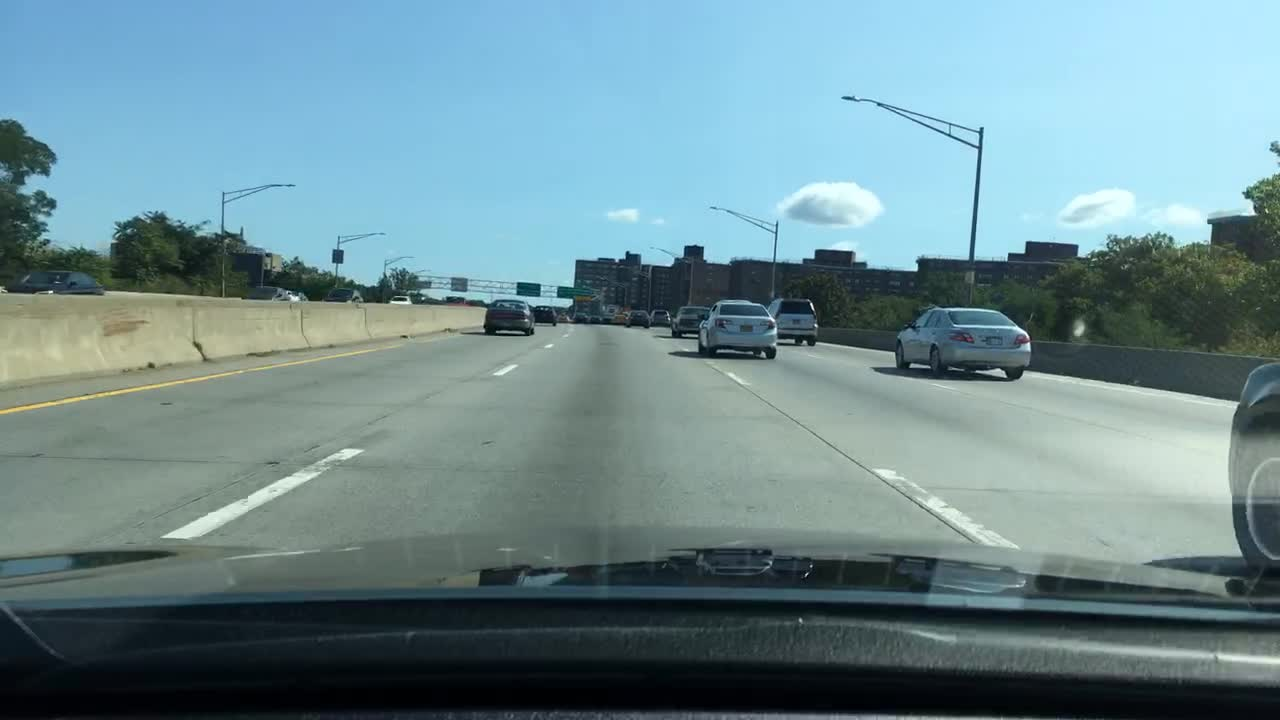car: (1227, 357, 1278, 581), (895, 308, 1031, 383), (697, 298, 776, 359), (2, 266, 101, 298), (764, 298, 817, 347), (484, 299, 538, 336), (670, 305, 712, 341), (323, 284, 363, 308), (240, 284, 287, 304), (531, 305, 555, 329), (624, 308, 649, 330), (649, 310, 673, 329), (285, 287, 311, 302), (388, 293, 414, 308), (585, 311, 603, 326), (415, 297, 445, 306), (442, 295, 468, 305), (609, 311, 630, 323), (556, 308, 568, 324), (570, 313, 589, 323), (598, 311, 610, 326)
traffic sign: (445, 275, 469, 292), (556, 287, 593, 298), (514, 283, 540, 296), (261, 253, 279, 270), (961, 270, 976, 284), (332, 248, 342, 263)
